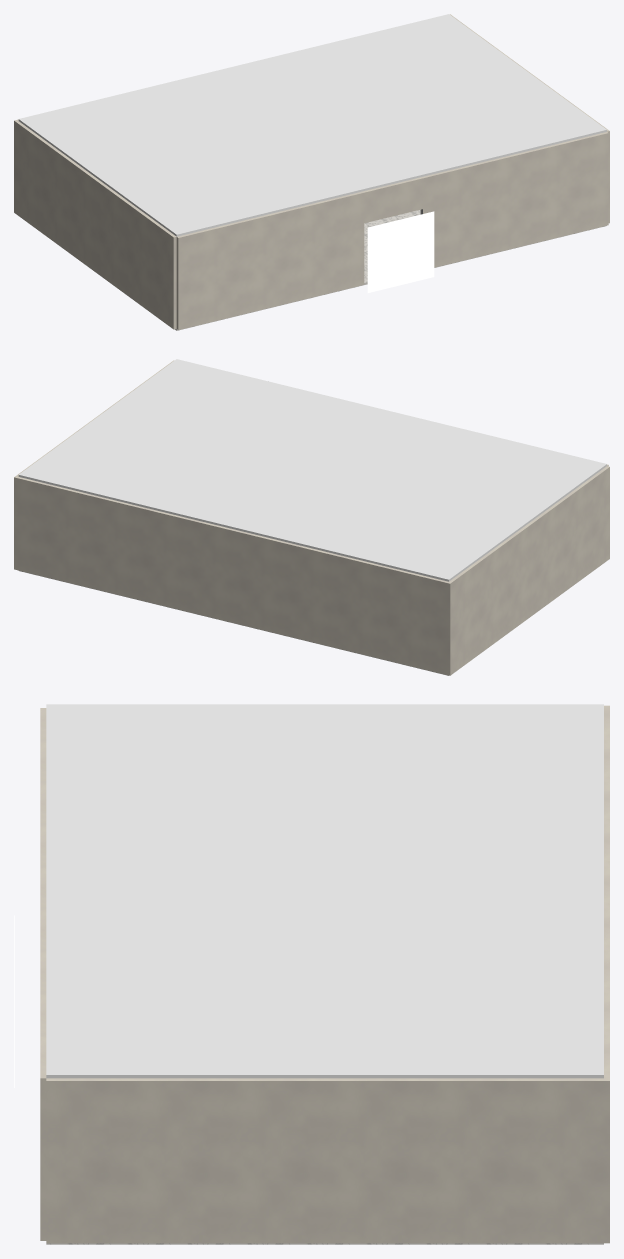
The model's file is room_hospital_pvt.glb.
3 renders of one model, top to bottom at view 1: azimuth 30°, elevation 25°; view 2: azimuth 150°, elevation 25°; view 3: azimuth 270°, elevation 25°, orthographic. The views are drawn at different scales.
Parts seen in each view (by area): view 1: Room; view 2: Room; view 3: Room.
Part boxes in pixels (x1,y1,x2,y2): Room: [14, 14, 609, 330]; Room: [14, 359, 609, 675]; Room: [14, 704, 609, 1244].
Size of the model in its own units: 22.3 by 4.7 by 14.96.
25 materials, 5 textured.
